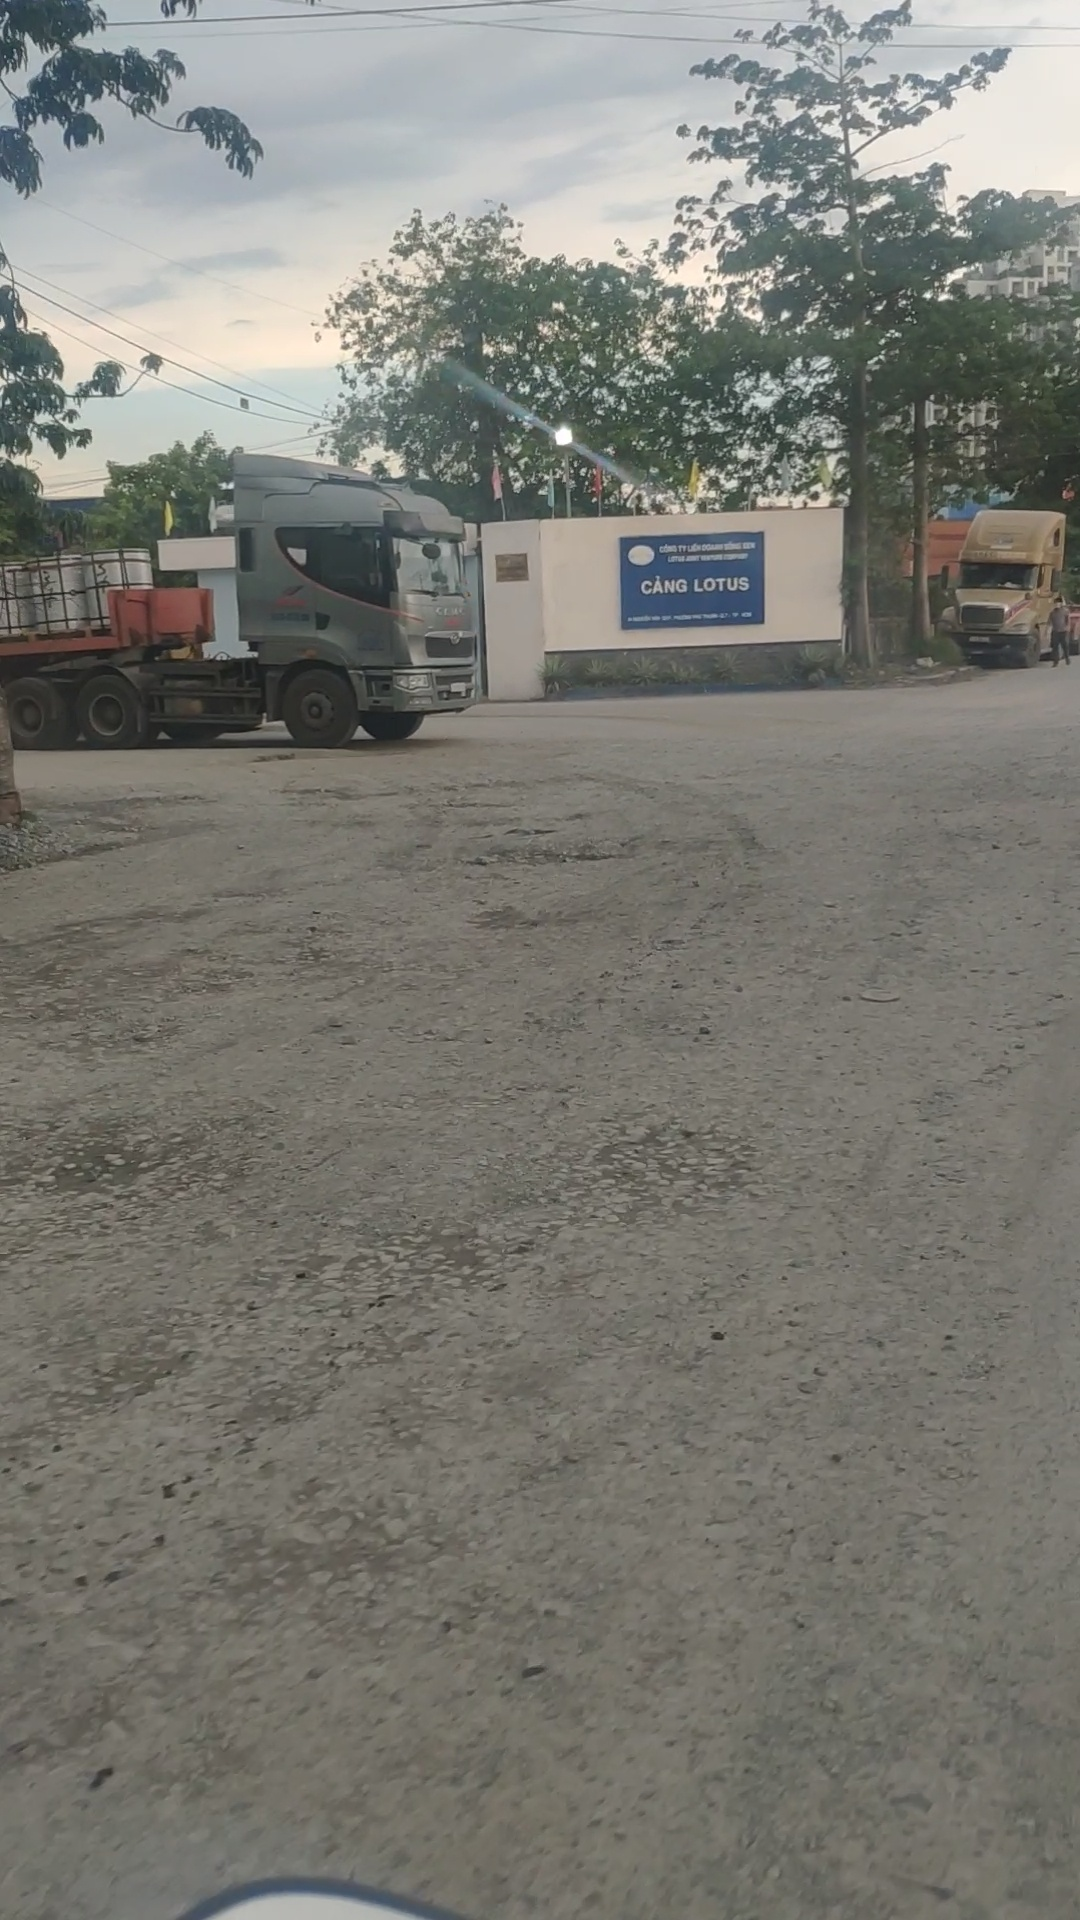hole: (1, 1093, 266, 1222), (559, 1110, 760, 1226), (51, 1005, 196, 1068), (47, 903, 170, 949), (458, 843, 647, 869), (65, 791, 207, 812), (199, 886, 277, 907), (427, 798, 520, 808)
